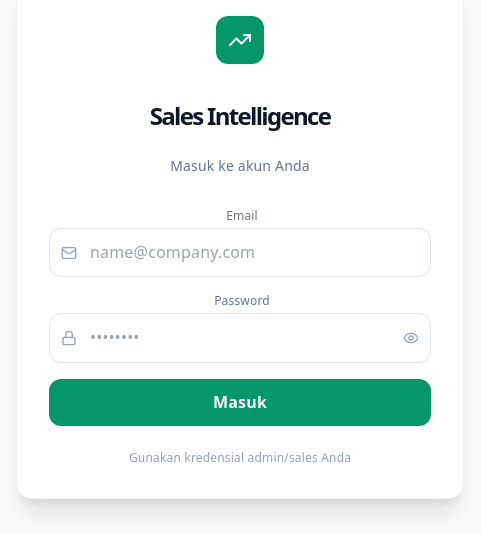
Test: Login › ✅ Form Submission › shows loading state during submission
The width and height of the screenshot is (481, 533).
Type "test@example.com" into the field with placeholder "name@company.com" at (240, 253), box left=49, top=228, right=431, bottom=277
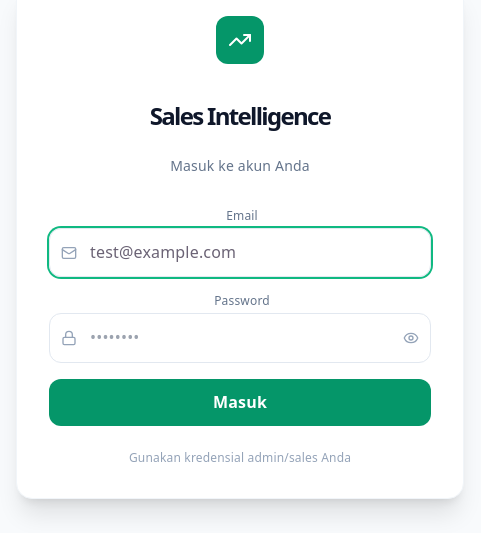
Type "password123" into the password field with placeholder "••••••••" at (240, 338), box left=49, top=313, right=431, bottom=363
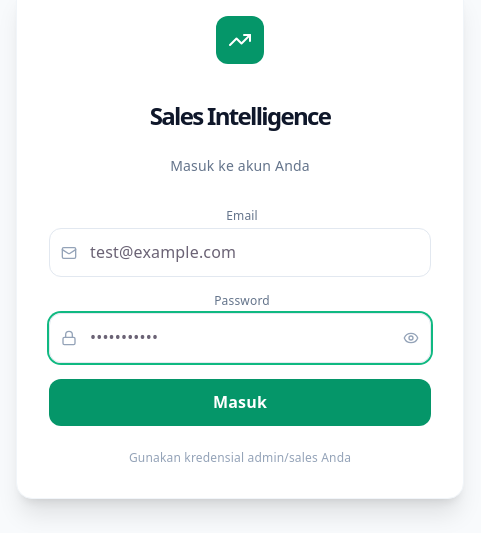
Click the button "Masuk" at (240, 402), box left=49, top=379, right=431, bottom=426
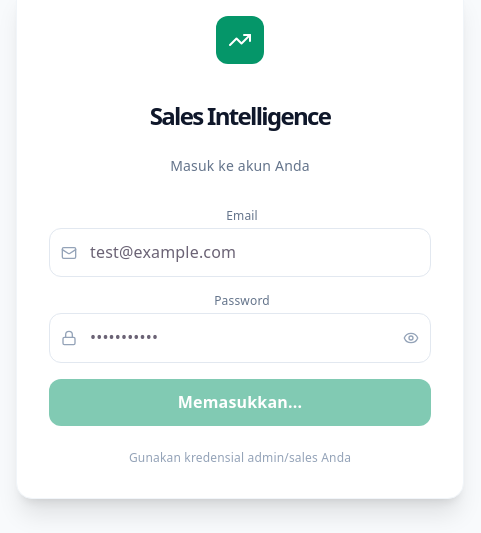
Result: the button "Memasukkan..." is shown at left=49, top=379, right=431, bottom=426
